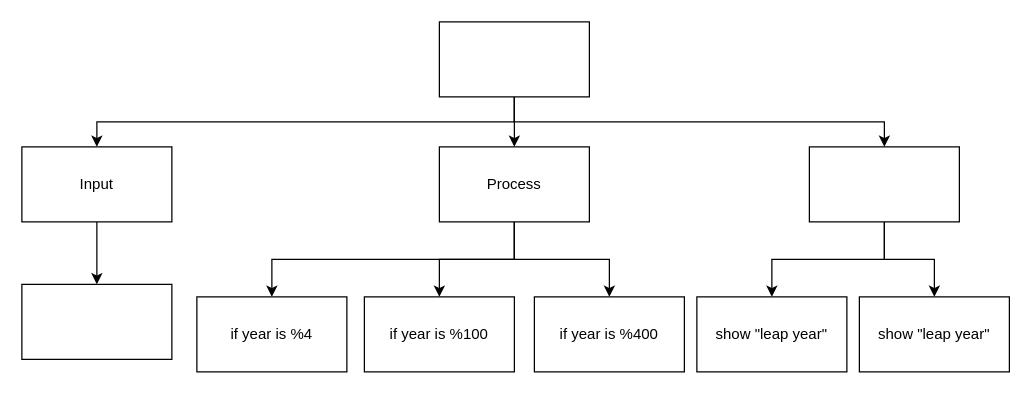
The diagram is 1031 pixels wide and 394 high, and some of its shapes have lost their labels. The shapes that lost their labels are listed below. From the top down, each one's centre as x and y in pixels, then its label:
the point at 513,59: number game
the point at 883,184: Output
the point at 96,321: input number
